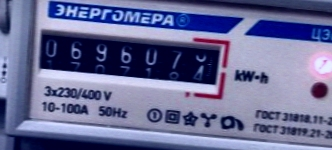0: (142, 42, 159, 65), (43, 35, 59, 57)
4: (191, 60, 206, 82)
6: (68, 36, 84, 59), (117, 41, 133, 63)
7: (167, 47, 184, 69)
9: (92, 39, 108, 61)
screen: (23, 16, 234, 96)
